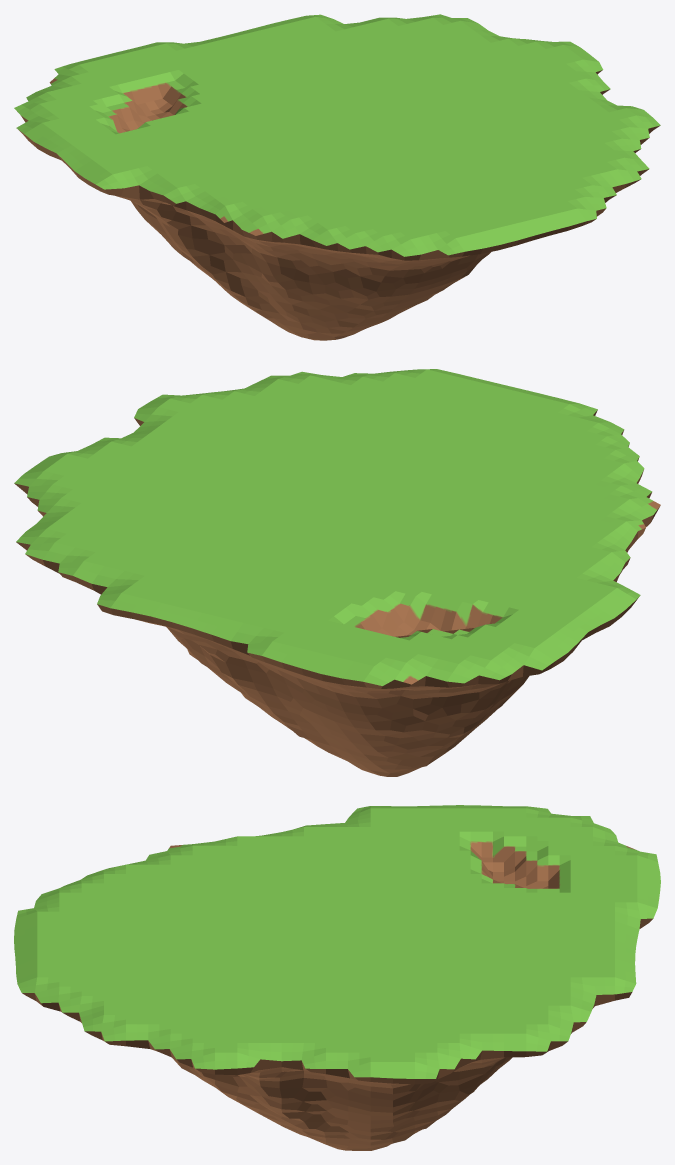
Rendered from myislandsmooth.obj.
3 views of the same model, one above another, from view 1: azimuth 30°, elevation 25°; view 2: azimuth 150°, elevation 25°; view 3: azimuth 270°, elevation 25° (orthographic). The views are drawn at different scales.
Parts seen in each view (by area): view 1: Vert.005; view 2: Vert.005; view 3: Vert.005.
Part boxes in pixels (<box>): Vert.005: <box>14,14,660,340</box>; Vert.005: <box>14,369,660,776</box>; Vert.005: <box>14,805,660,1150</box>.
Bounding box in the file's own units: 239 × 93.21 × 239.
1 material, 1 textured.
